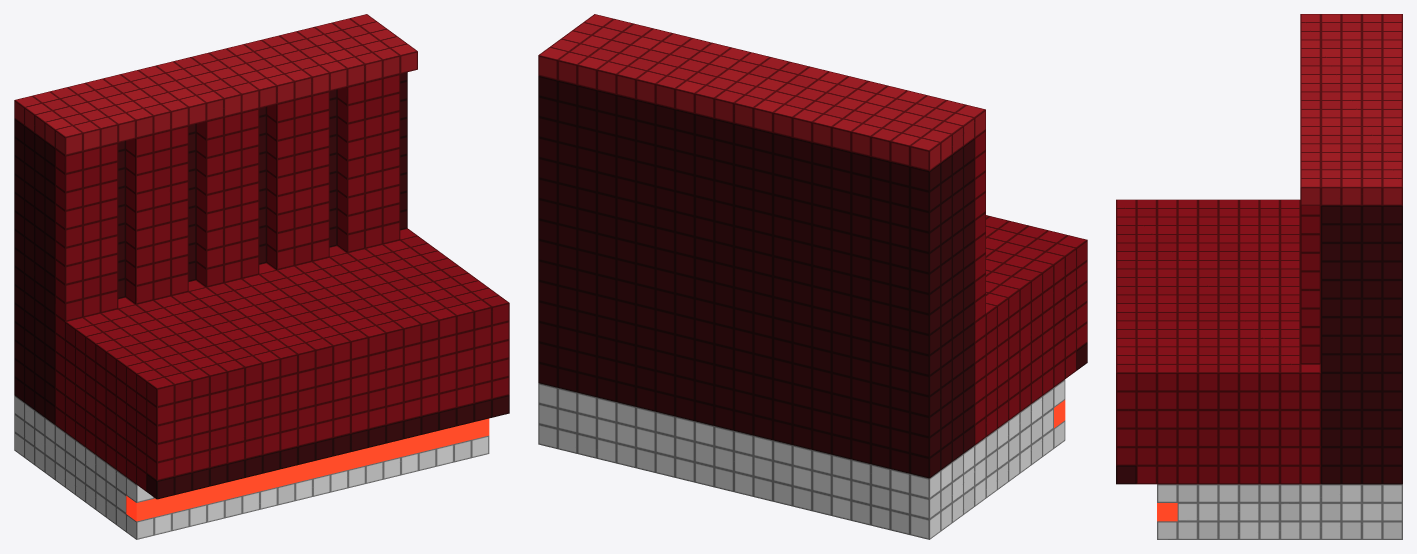
File: couch_long.glb
The picture shows the model from 3 angles, left to right: view 1: azimuth 30°, elevation 25°; view 2: azimuth 150°, elevation 25°; view 3: azimuth 270°, elevation 25°; orthographic projection. The views are drawn at different scales.
Visible parts, largest first — view 1: couch_long; view 2: couch_long; view 3: couch_long.
Part boxes in pixels (bbox=[...]): couch_long: bbox=[14, 14, 509, 539]; couch_long: bbox=[538, 14, 1087, 539]; couch_long: bbox=[1116, 14, 1402, 539].
Bounding box in the file's own units: 1 × 0.95 × 0.7.
5 materials, 4 textured.
